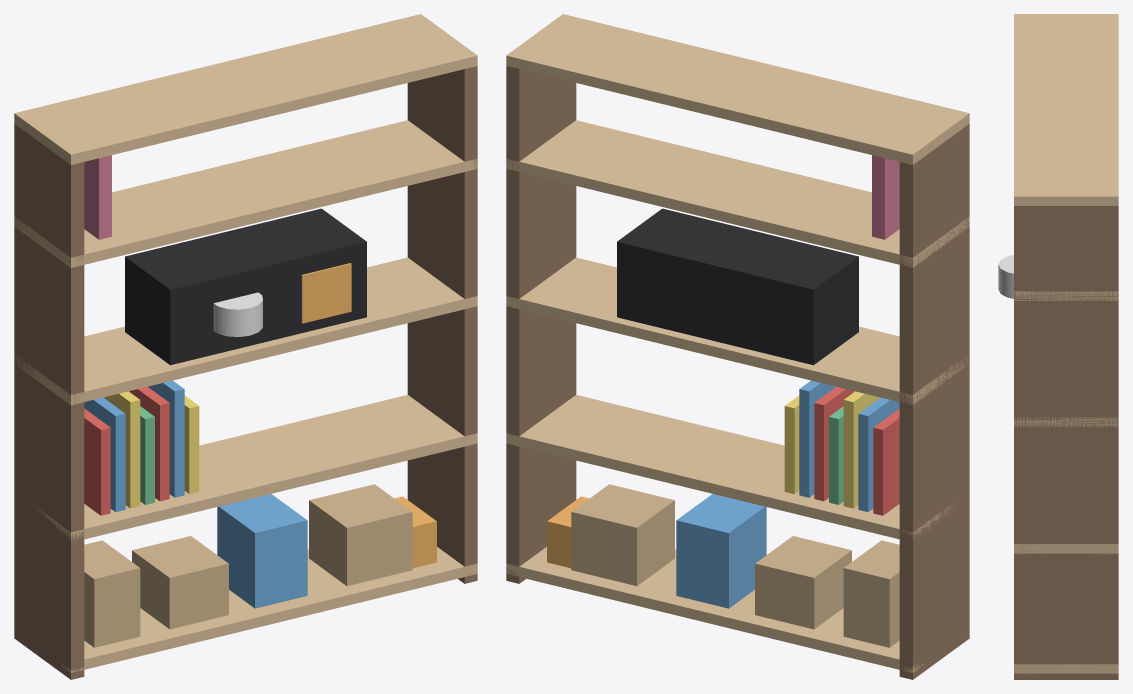
The model's file is wall-shelf.glb.
The picture shows the model from 3 angles, left to right: view 1: azimuth 30°, elevation 25°; view 2: azimuth 150°, elevation 25°; view 3: azimuth 270°, elevation 25°; orthographic projection. The views are drawn at different scales.
Parts seen in each view (by area): view 1: body; view 2: body; view 3: body.
Boxes of the visible parts, x1,y1,x2,y2 form: body: [14, 14, 477, 679]; body: [506, 14, 969, 679]; body: [998, 14, 1118, 679].
Size of the model in its own units: 1.24 by 1.53 by 0.345.
